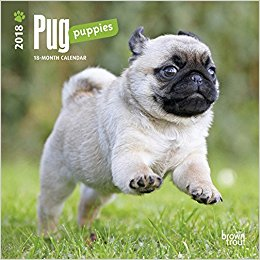dog: (37, 24, 223, 240)
